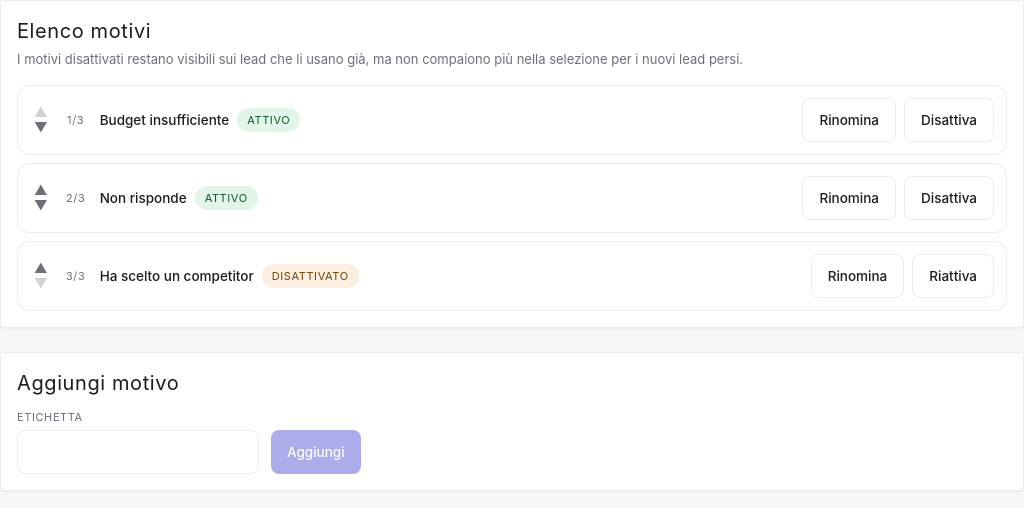
LossReasonsPanel › deactivates an active reason
The width and height of the screenshot is (1024, 508).
Click the button with aria-label "Disattiva: Budget insufficiente". click: (949, 120)
box: [904, 98, 994, 142]
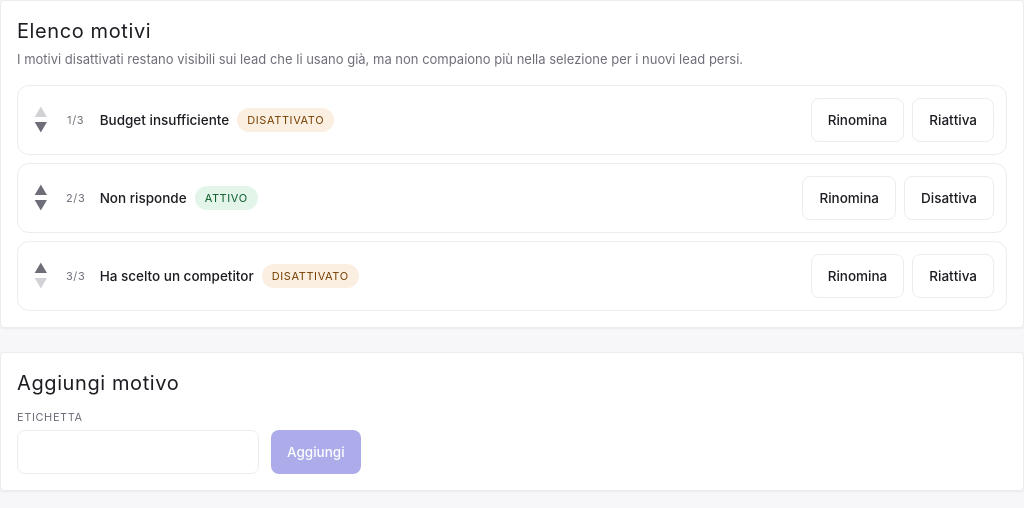
Check: the button with aria-label "Riattiva: Budget insufficiente" is shown, box [912, 98, 994, 142]
